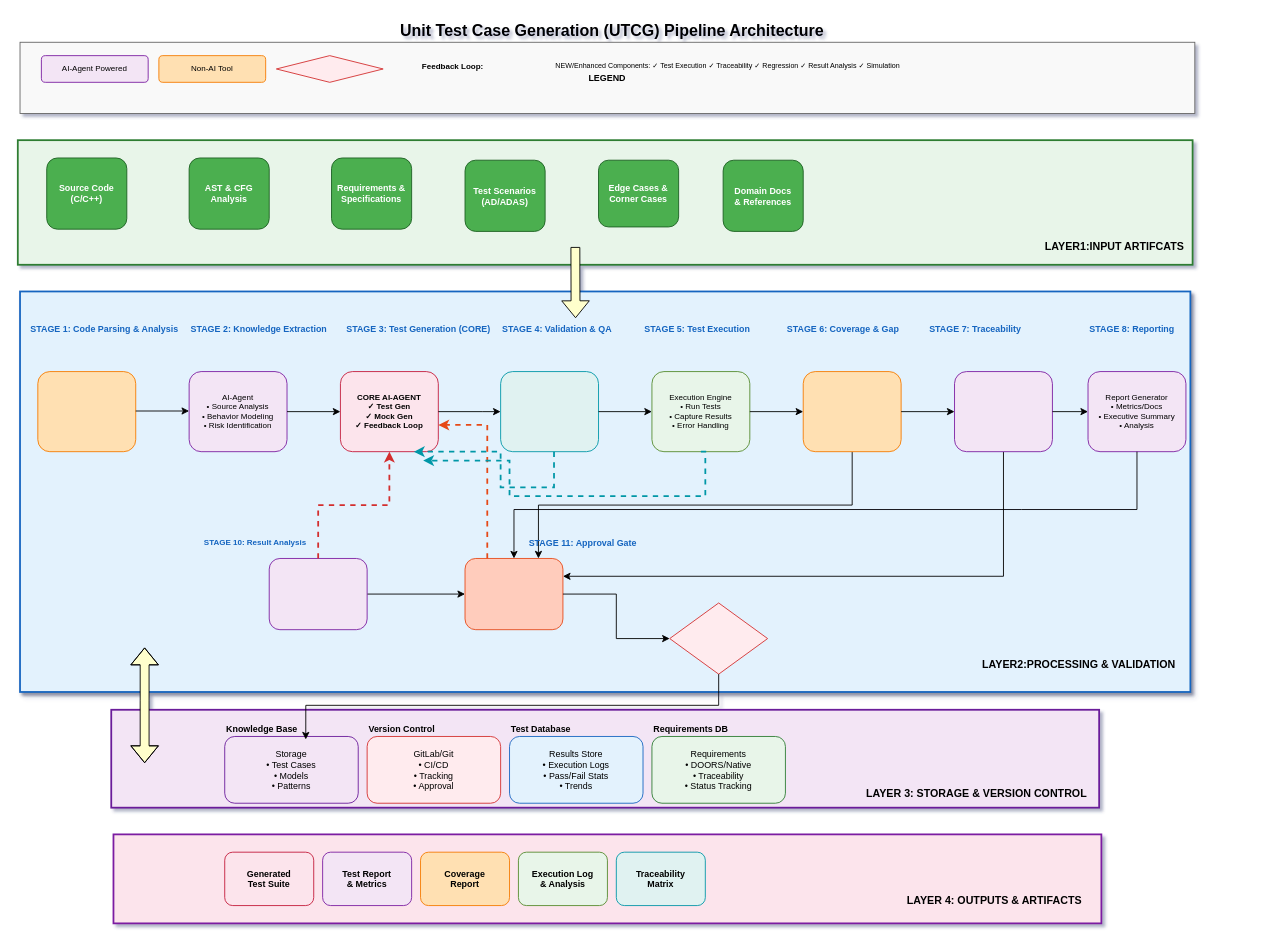
Image size: 1286x944. Some labels were removed from this diagram. The shapes that lost their labels are listed below. From the top down, each one's centre as x and y in pixels, then its label:
the point at 329,68: Decision Gate
the point at 86,411: Non-AI Parser • CFG/AST Gen • Data Flow • Call Graph
the point at 549,411: AI-Agent Validator • Syntax Check • Semantics • Coherence
the point at 851,411: Non-AI Tool • Code Coverage • Branch/Line • Gap Analysis
the point at 1003,411: Traceability Agent • Req-Test Map • ISO 26262 Check • Compliance
the point at 317,594: Analysis Agent • Failure Analysis • Root Cause • Trend Detection
the point at 513,594: APPROVAL GATE Human Review ✓ Accept/Reject ✓ Feedback
the point at 718,638: Quality OK?
